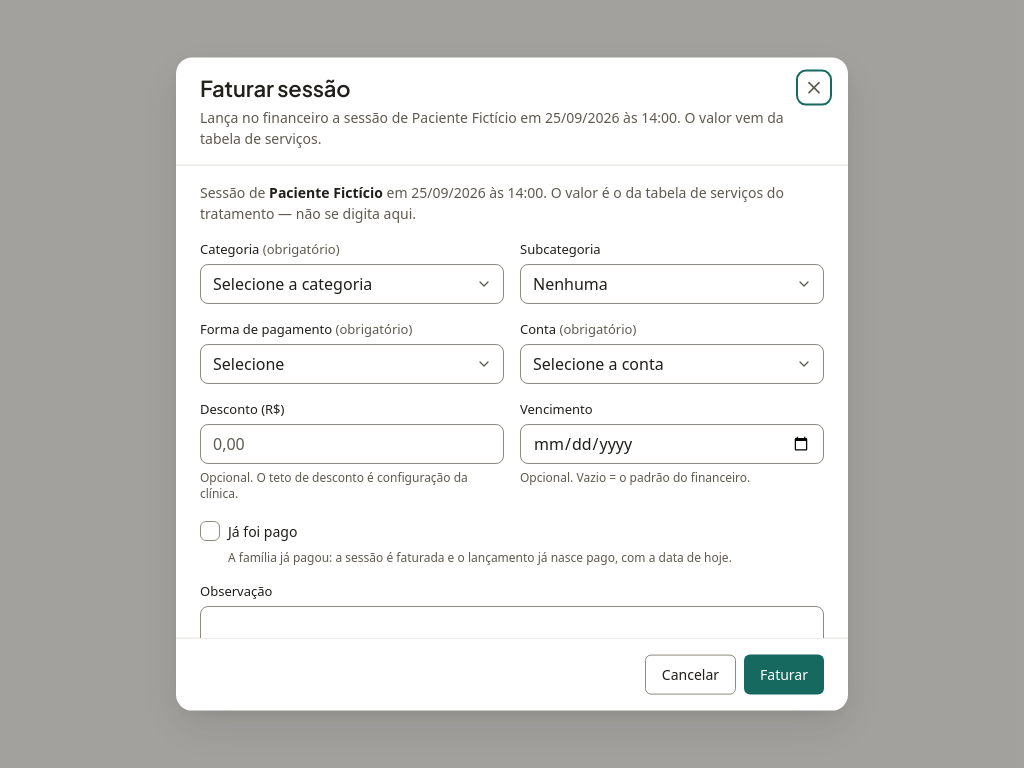
Test: Faturar sessão — faturar já pago › deve dizer no botão que a sessão vai faturada como paga
The image size is (1024, 768).
What coordinates should you click on to do the following:
click the checkbox named "Já foi pago"
I would click on:
 (210, 531)
Its box is [200, 521, 220, 541].
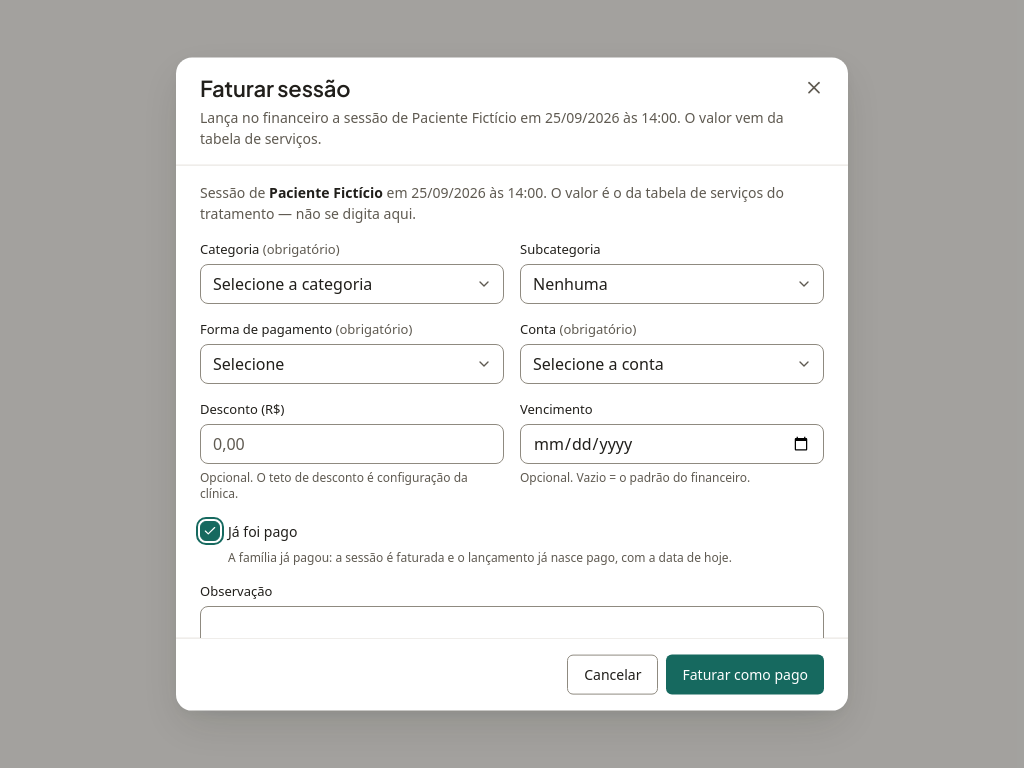
Expected: the button "Faturar como pago" is shown, [666, 654, 824, 694]
